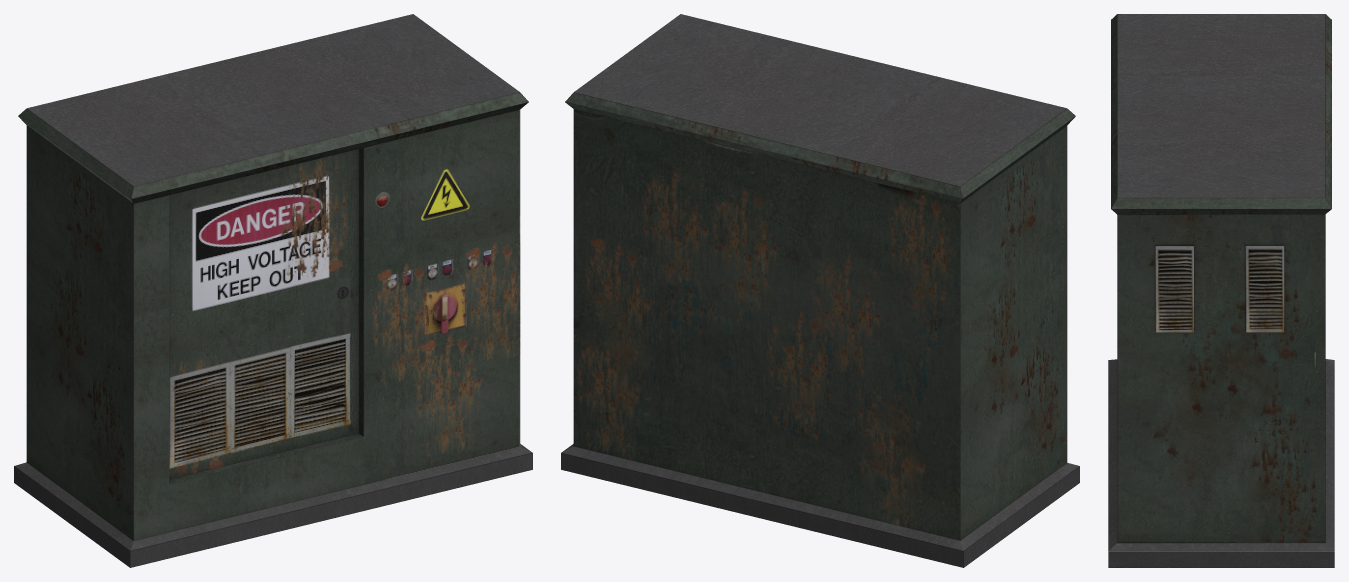
The model's file is electric_box.glb.
3 renders of one model, left to right at view 1: azimuth 30°, elevation 25°; view 2: azimuth 150°, elevation 25°; view 3: azimuth 270°, elevation 25°, orthographic. The views are drawn at different scales.
Visible parts, largest first — view 1: Box003; view 2: Box003; view 3: Box003.
Part boxes in pixels (x1,y1,x2,y2): Box003: [14, 14, 532, 567]; Box003: [561, 14, 1079, 567]; Box003: [1108, 14, 1334, 567].
Bounding box in the file's own units: 50 × 44.62 × 25.
1 material, 1 textured.
